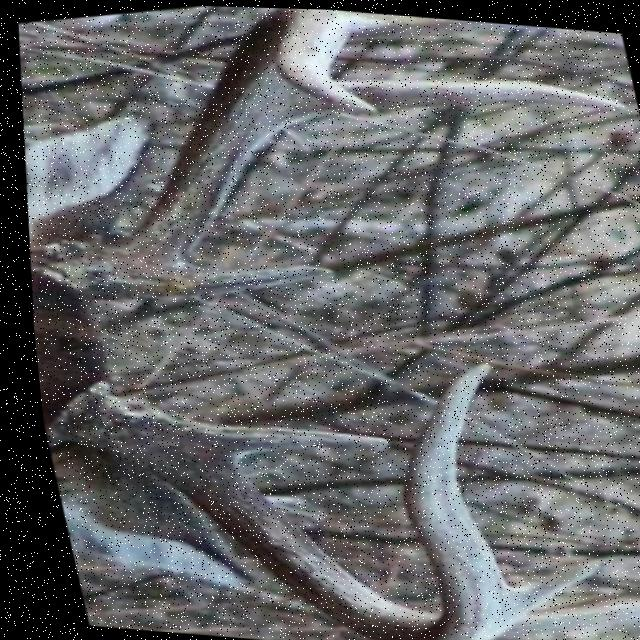L-F: (36, 358, 490, 640)
L-G1: (197, 423, 382, 457)
L-G2: (490, 551, 592, 630)
R-G1: (153, 261, 335, 297)
R-G2: (269, 75, 633, 133)
R-G3: (342, 9, 567, 40)
